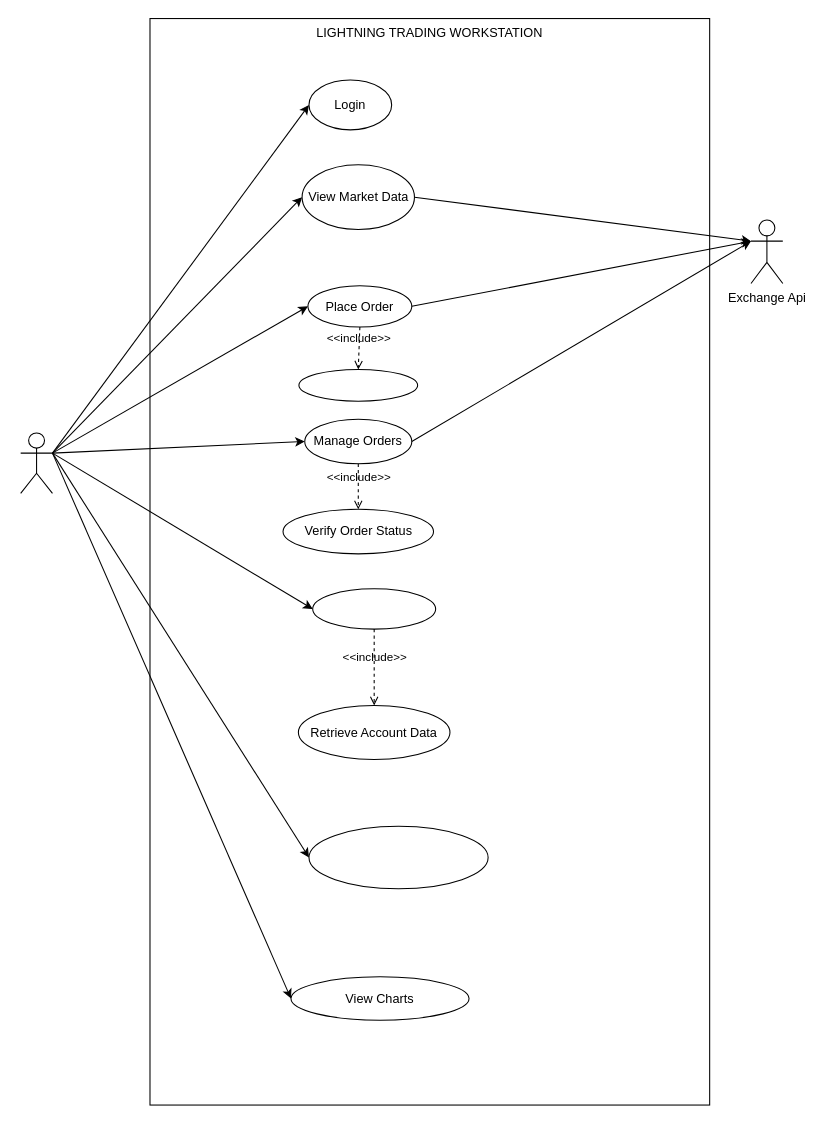
Some shapes in this 824 by 1124 pixel diagram are drawn without their labels. Each missing label, with the centre of its shape:
"Trader" belongs at point 36,462.
"Verify Balance" belongs at point 358,384.
"View Portfolio" belongs at point 374,608.
"View Transaction History" belongs at point 398,857.
